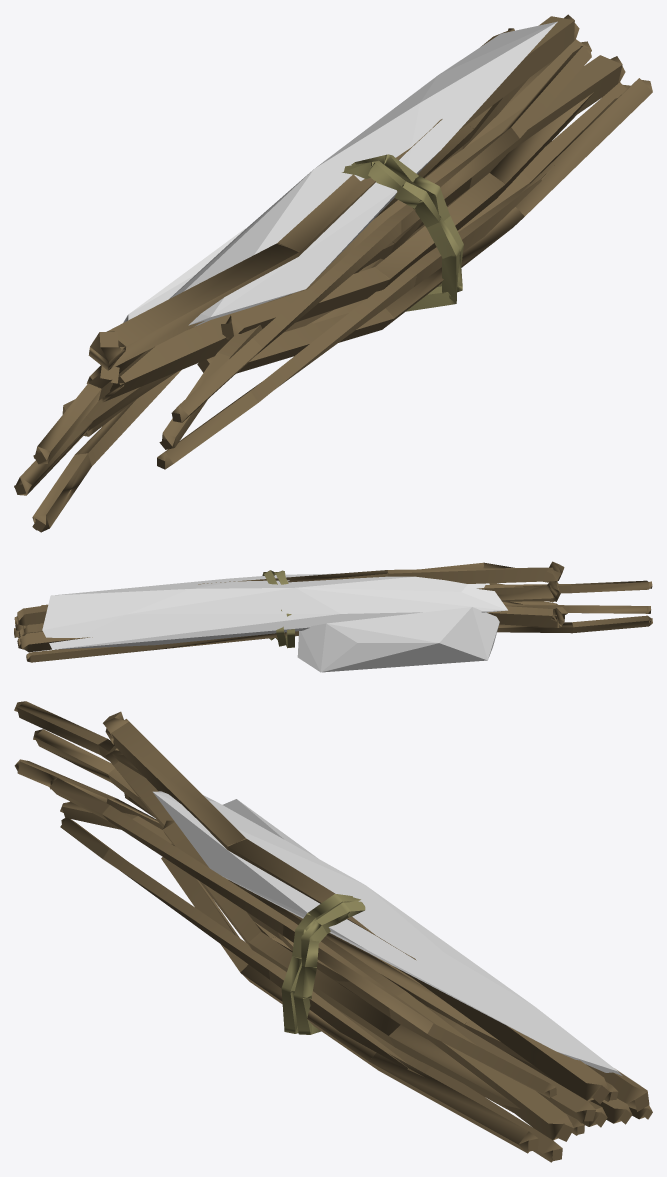
The model's file is bundleOfSticks.fbx.
3 views of the same model, one above another, from view 1: azimuth 30°, elevation 25°; view 2: azimuth 150°, elevation 25°; view 3: azimuth 270°, elevation 25° (orthographic). The views are drawn at different scales.
Parts seen in each view (by area): view 1: bundleOfSticks; view 2: bundleOfSticks; view 3: bundleOfSticks.
Part boxes in pixels (<box>): bundleOfSticks: <box>14,14,652,532</box>; bundleOfSticks: <box>14,561,652,672</box>; bundleOfSticks: <box>14,701,652,1162</box>.
Size of the model in its own units: 175 by 29.52 by 122.
